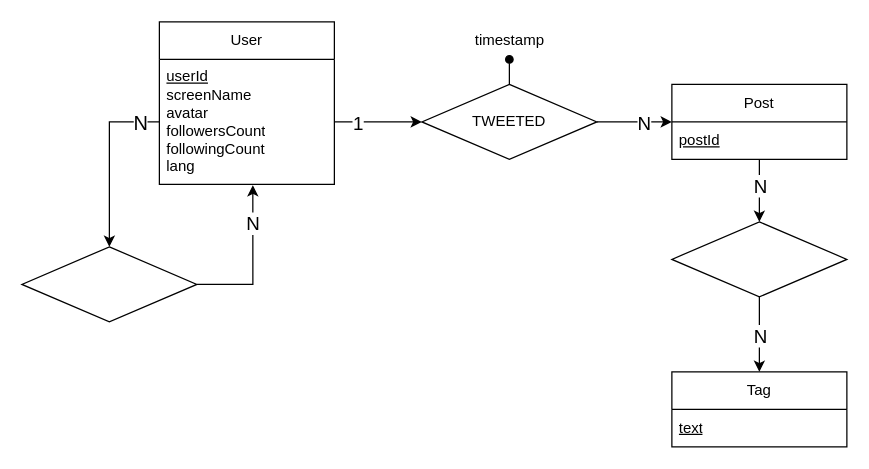
Some shapes in this 869 by 469 pixel diagram are drawn without their labels. The shapes that lost their labels are listed below. From the top down, each one's centre as x and y in pixels, then its label:
At point 759,259: "HAS_TAG".
At point 109,284: "FOLLOWS".
